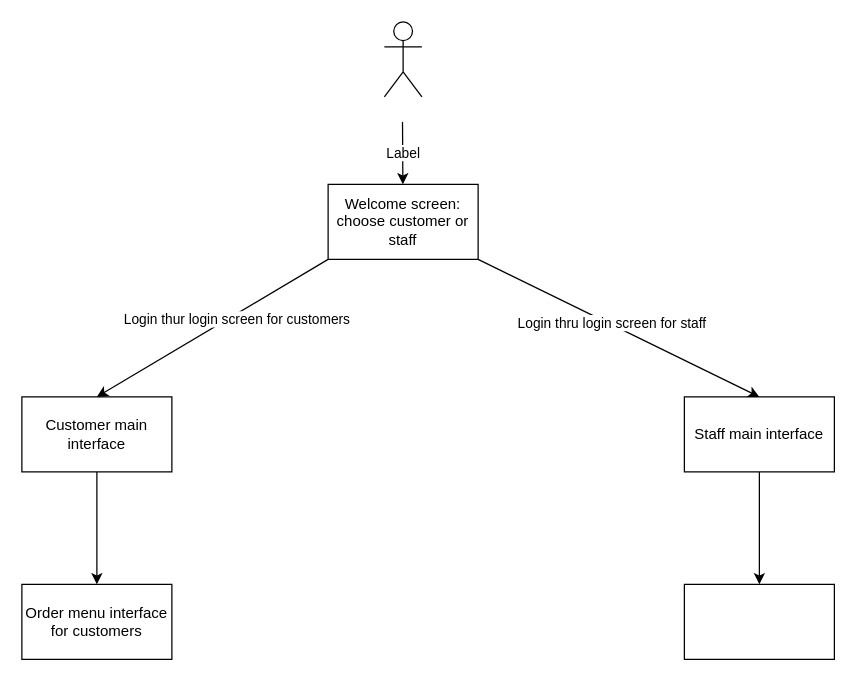
Some shapes in this 856 by 681 pixel diagram are drawn without their labels. The centre of each missing label's shape, as x and y in pixels:
"Customers and staff" belongs at point 402,59.
"Order menu interface for restuarant (CURRENT MAIN SCREEN)" belongs at point 758,621.
